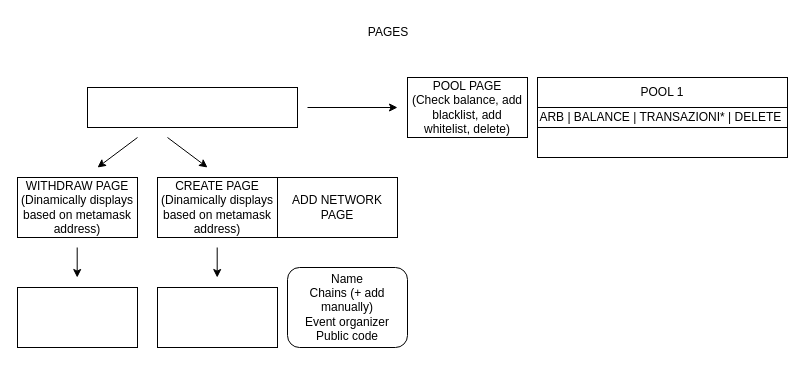
This 805x365 diagram has some shape labels left out. Here are the shapes that lost their labels. From the top down, the centre of each, then its label:
At (x=192, y=107): "CREATE | WITHDRAW | MY POOLS".
At (x=77, y=317): "ETH SCANNER PAGE".
At (x=217, y=317): "EVENT CREATION SUCCESS PAGE".
